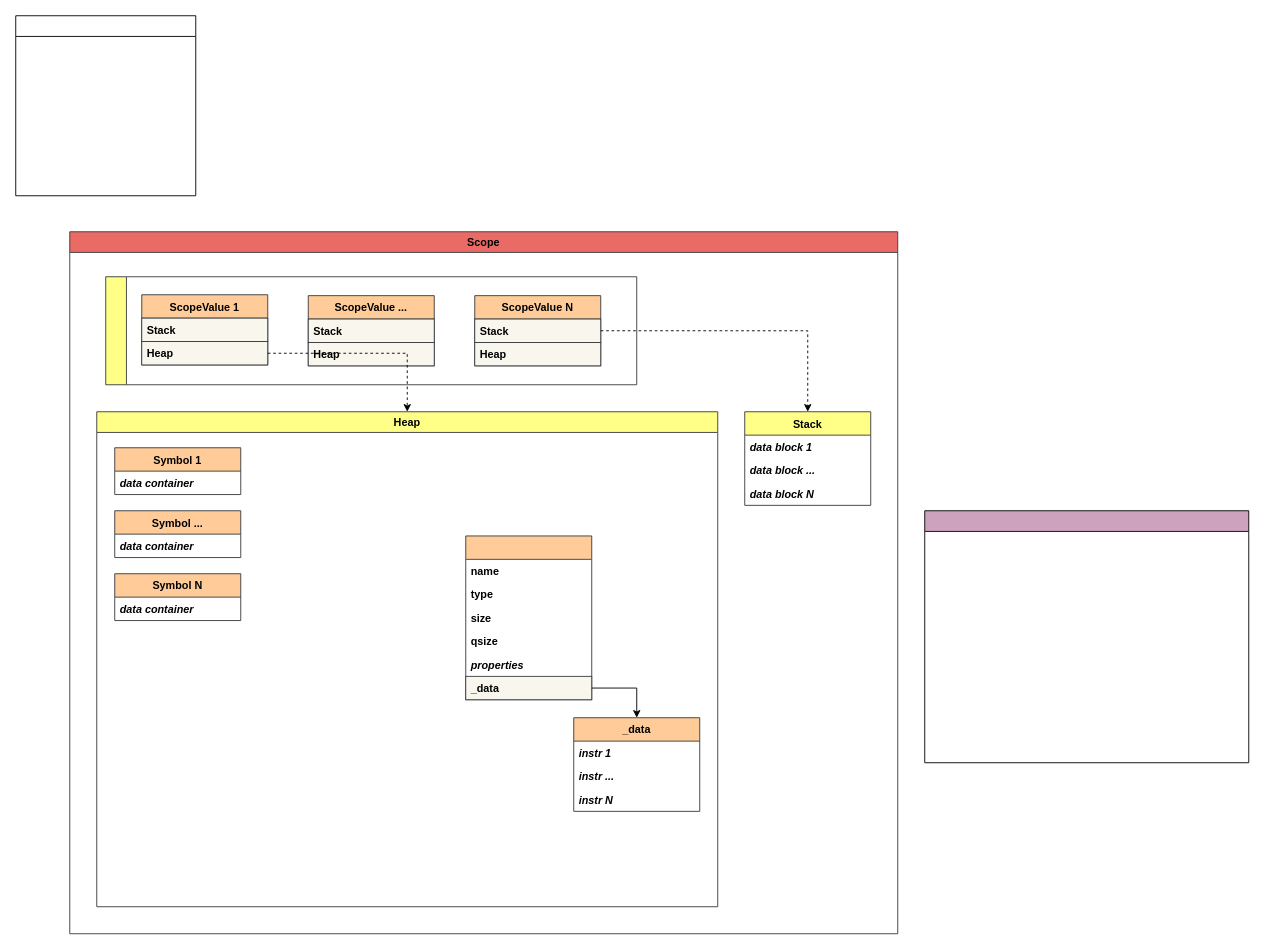
This 1265x950 diagram has some shape labels left out. Each missing label, with the box of its shape:
MemoryManager: (15, 15, 196, 196)
Quantum Program: (924, 510, 1249, 763)
quantum variable: (465, 535, 592, 700)
table: (105, 276, 637, 385)
